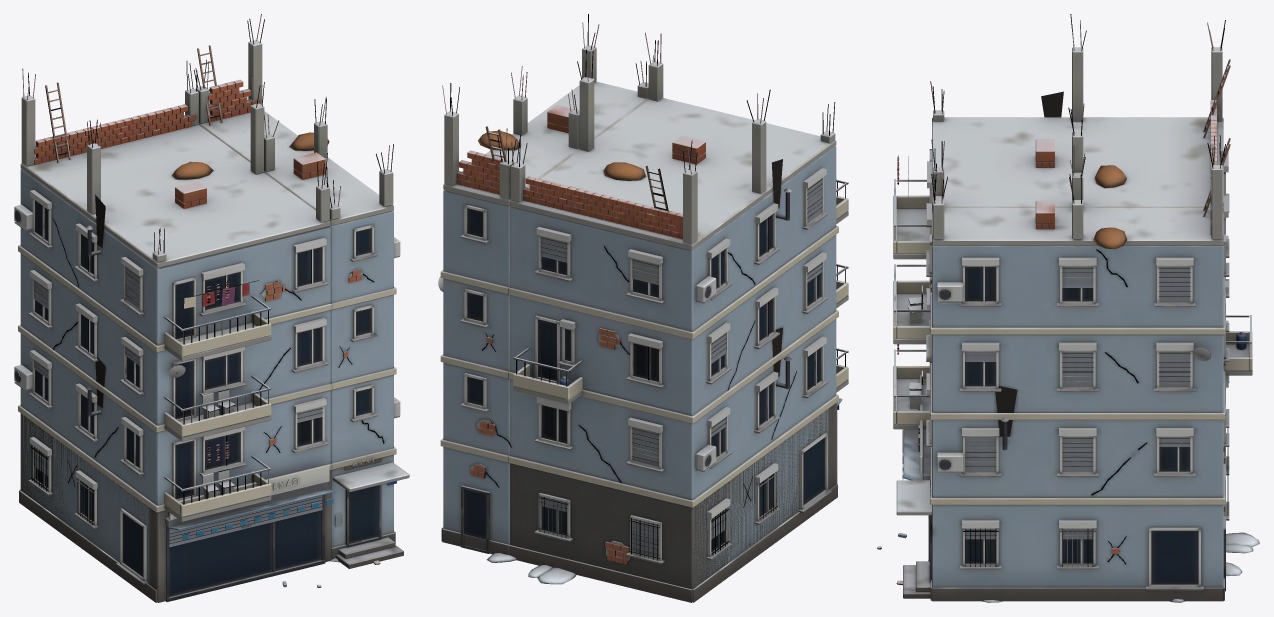
File: bld_apt_blue_3.glb
3 renders of one model, left to right at view 1: azimuth 30°, elevation 25°; view 2: azimuth 150°, elevation 25°; view 3: azimuth 270°, elevation 25°, orthographic. The views are drawn at different scales.
Parts seen in each view (by area): view 1: bld_apt_blue_3; view 2: bld_apt_blue_3; view 3: bld_apt_blue_3.
Boxes of the visible parts, x1,y1,x2,y2 form: bld_apt_blue_3: [14, 14, 409, 602]; bld_apt_blue_3: [438, 14, 848, 602]; bld_apt_blue_3: [877, 14, 1259, 602].
Size of the model in its own units: 10.2 by 15.79 by 11.82.
Materials: 1 (1 with a texture image).
